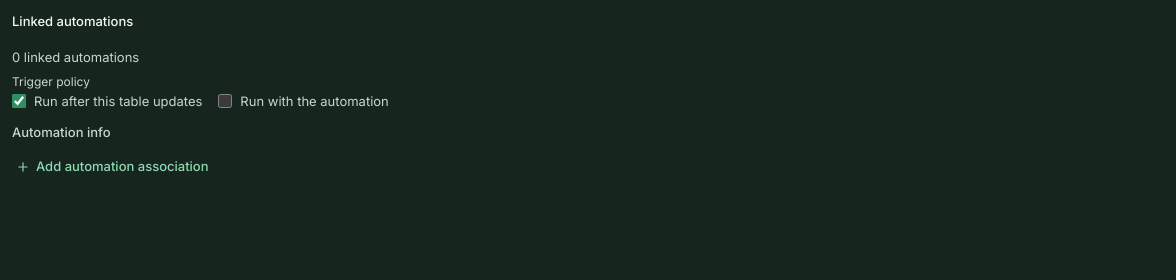
it: table association conditions › associates a local raw table without adding a cloud download action
The width and height of the screenshot is (1176, 280).
Press Enter in the button "Add automation association", box [12,150,212,182]
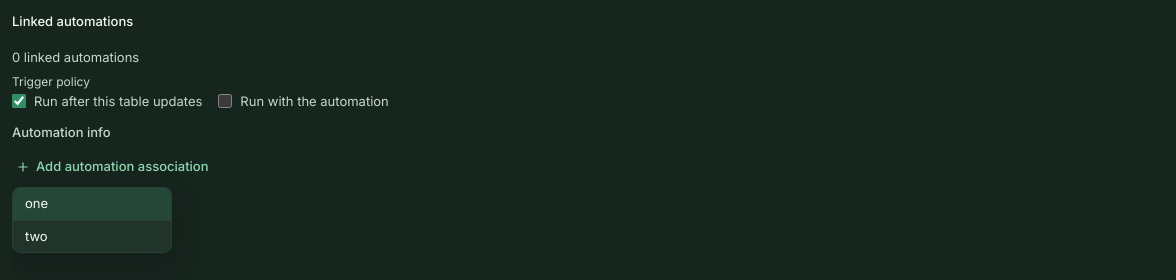
Click the menu item "one" at (92, 204), box [13,188,171,220]
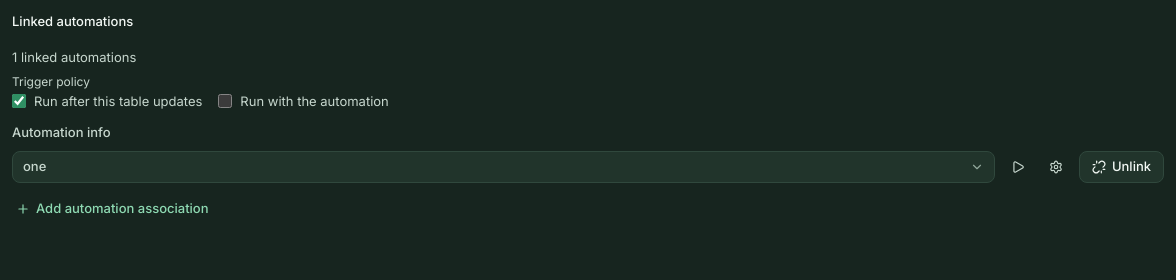
Expected: the list item "one" is shown, [12,150,1164,188]
Expected: the number of dropdowns is 1, [12,150,995,182]
Press Enter in the button "Add automation association", box [12,192,212,224]
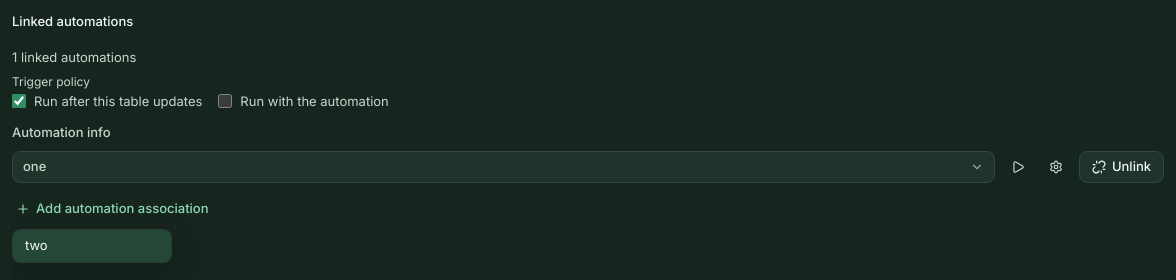
Expected: the menu item "two" is shown, [13,230,171,262]
